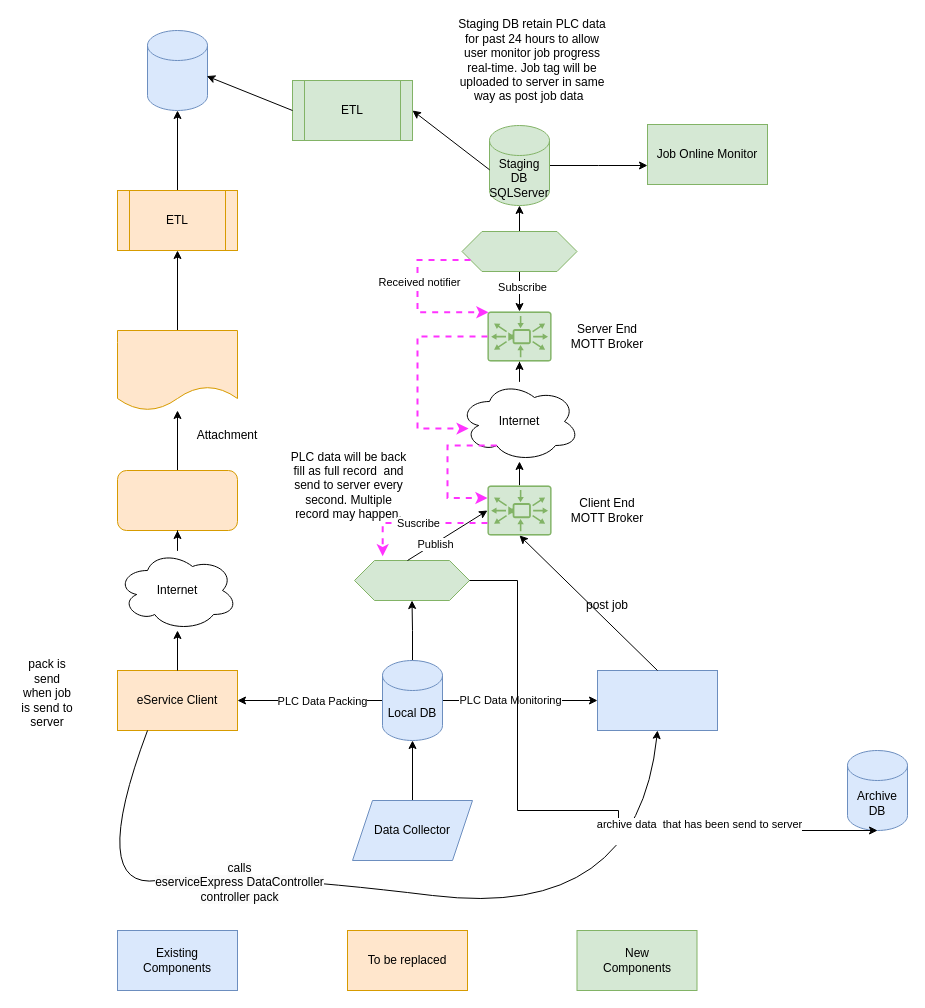
Some shapes in this 925 by 1008 pixel diagram are drawn without their labels. The shapes that lost their labels are listed below. From the top down, each one's box as (x1, y1, x2, y2) in pixels, then its label:
(146, 30, 208, 110): Sanjel27
(461, 230, 577, 272): PLC Data Receiver
(116, 330, 238, 410): File Server
(116, 470, 238, 530): EService WCF Service
(354, 560, 470, 600): PLC Data Sender LocalDataMngr
(596, 670, 718, 730): EService Express
